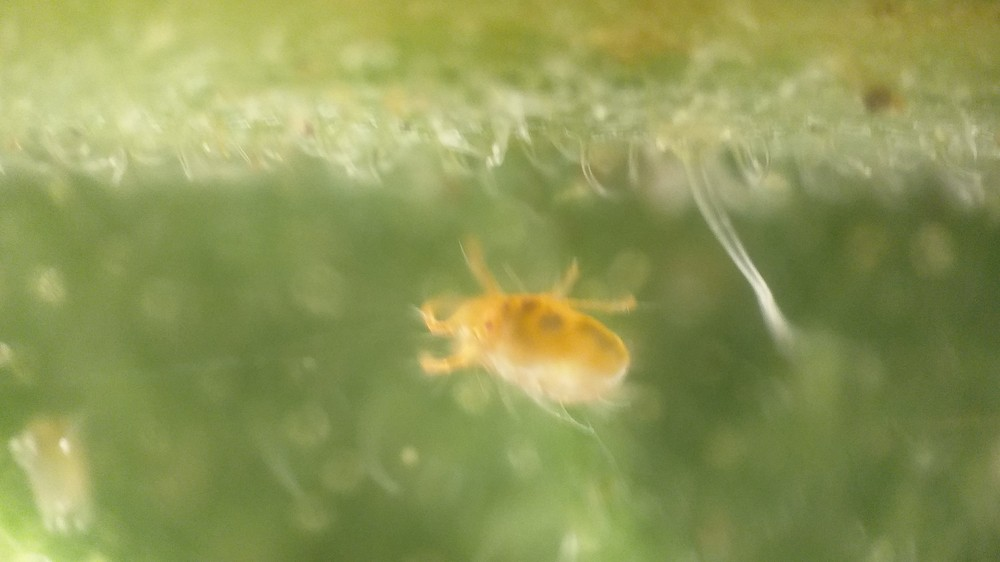Aracnido Rojo: (403, 246, 663, 457)
